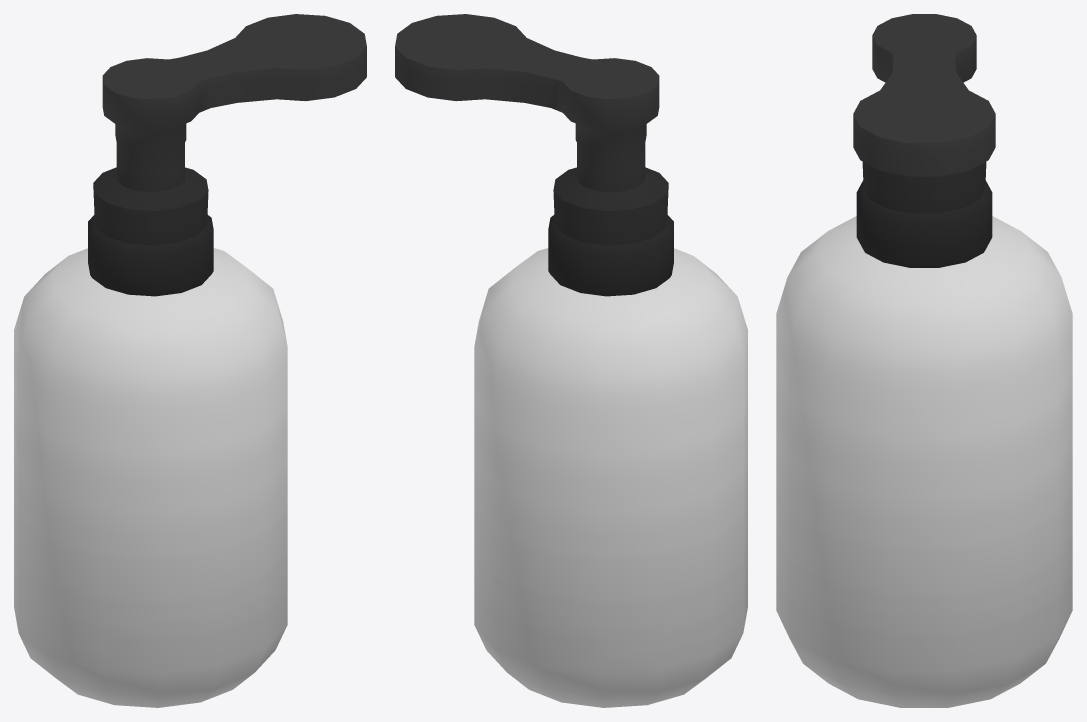
File: tval.glb
The picture shows the model from 3 angles, left to right: view 1: azimuth 30°, elevation 25°; view 2: azimuth 150°, elevation 25°; view 3: azimuth 270°, elevation 25°; orthographic projection. The views are drawn at different scales.
Visible parts, largest first — view 1: HandWash_Bottle; view 2: HandWash_Bottle; view 3: HandWash_Bottle.
Boxes of the visible parts, x1,y1,x2,y2 form: HandWash_Bottle: [14, 14, 366, 707]; HandWash_Bottle: [395, 14, 747, 707]; HandWash_Bottle: [776, 14, 1072, 707].
Bounding box in the file's own units: 1.14 × 1.97 × 0.8425.
Materials: 1 (1 with a texture image).
